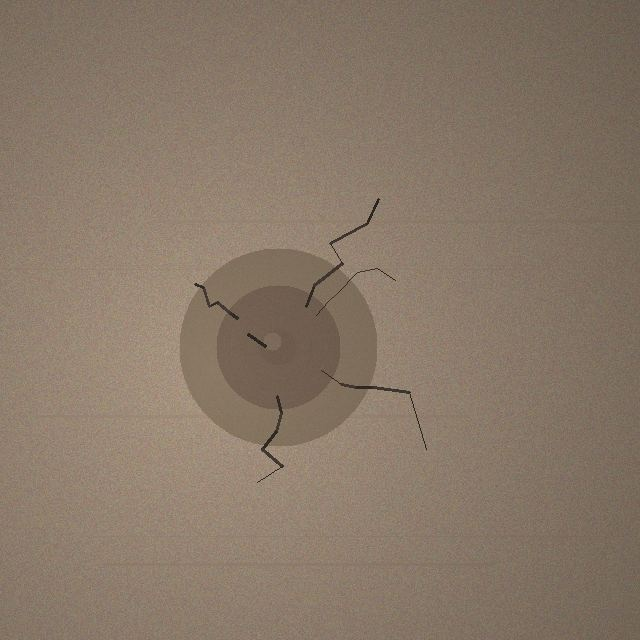crack: (179, 248, 377, 446)
